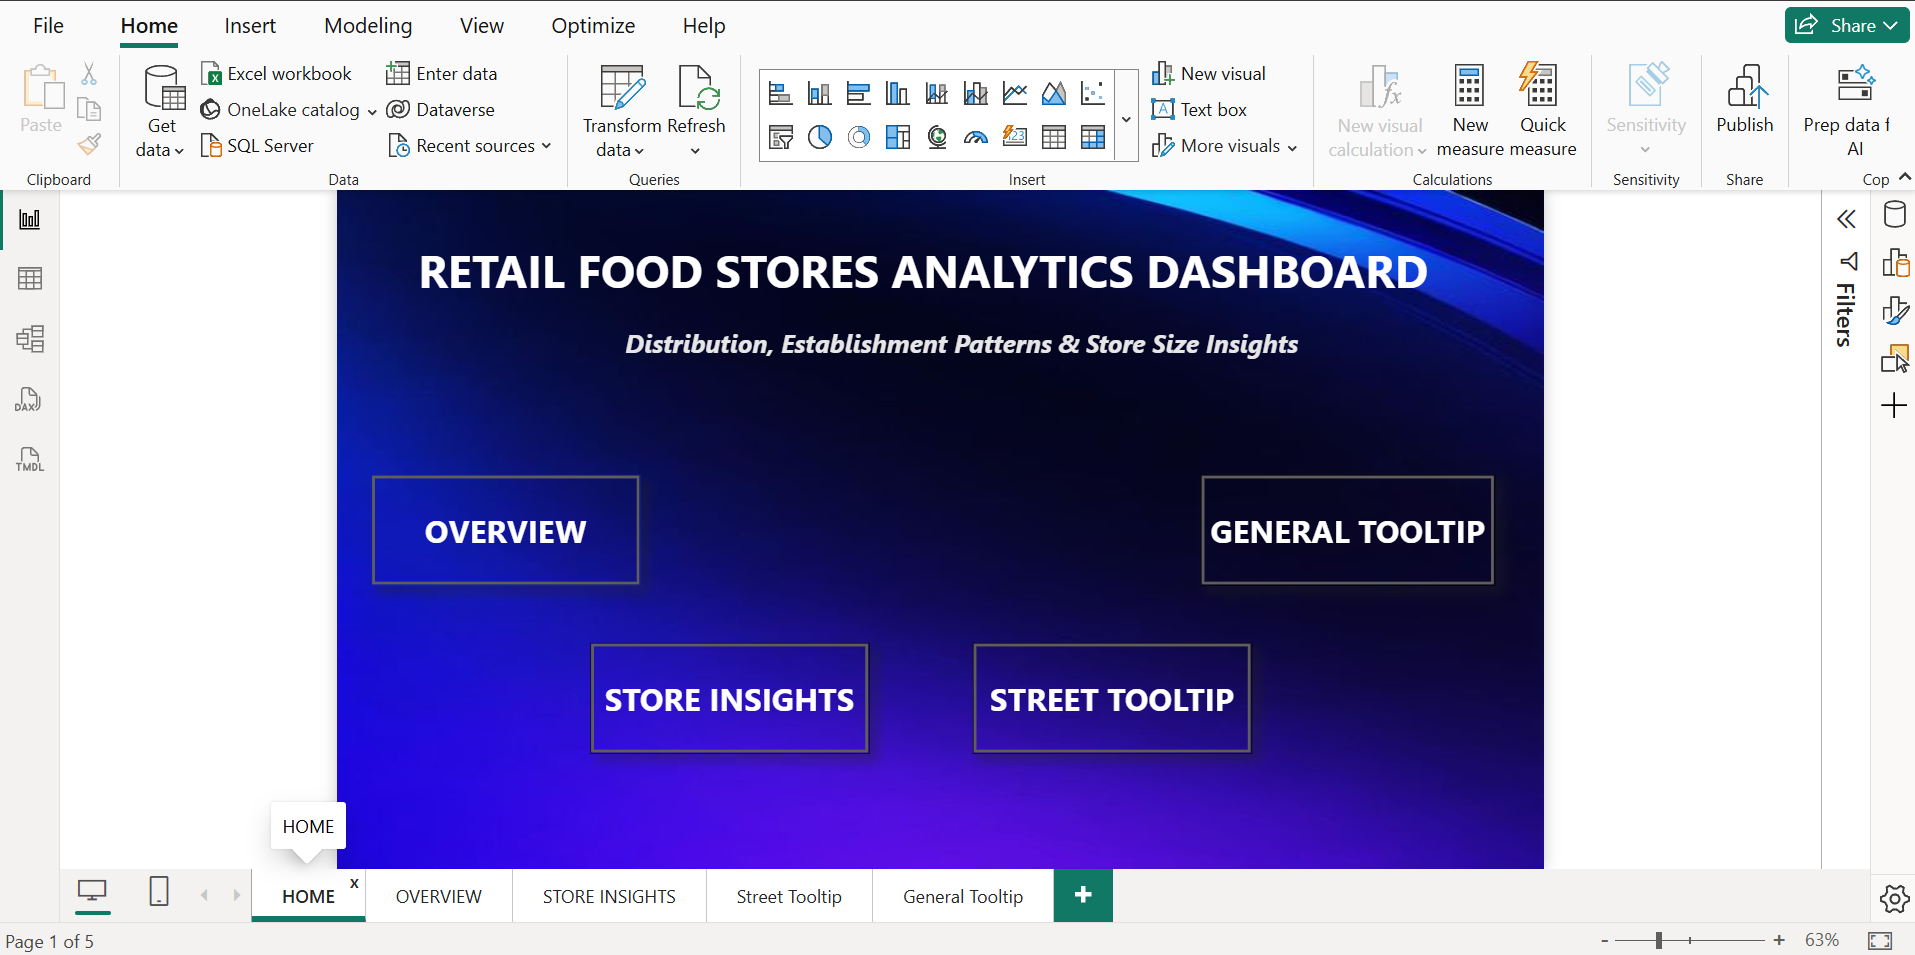

The page's visual inventory and layout, read from the dashboard file:
{"tool":"powerbi","page":{"name":"HOME","canvas":[1280,720],"ordinal":0},"visuals":[{"type":"textbox","box":[81.3,46.2,1114.3,77.6],"z":0},{"type":"textbox","box":[301.2,138.6,746.6,53.6],"z":1000},{"type":"actionButton","box":[36.5,301.8,285.6,117.5],"z":2000},{"type":"actionButton","box":[269.4,480,295.7,117.5],"z":3000},{"type":"actionButton","box":[915.4,301.8,311.9,117.5],"z":4000},{"type":"actionButton","box":[674.4,480,295.7,117.5],"z":4001}]}

Visuals, with their boxes on the page's 1280x720 design canvas (x1, y1, x2, y2). These are canvas units, not pixel positions in the 1915x955 screenshot, which may show the page scaled, cropped or inside an application window:
textbox: [81, 46, 1196, 124]
textbox: [301, 139, 1048, 192]
actionButton: [36, 302, 322, 419]
actionButton: [269, 480, 565, 598]
actionButton: [915, 302, 1227, 419]
actionButton: [674, 480, 970, 598]
